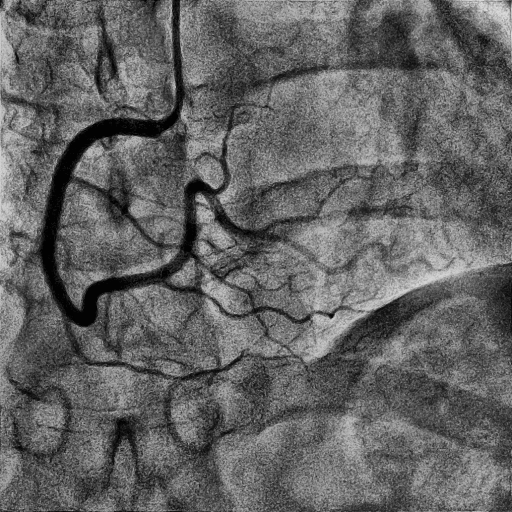pborca: (158, 179, 331, 280)
pda: (161, 281, 334, 323)
rca: (41, 118, 167, 327)
